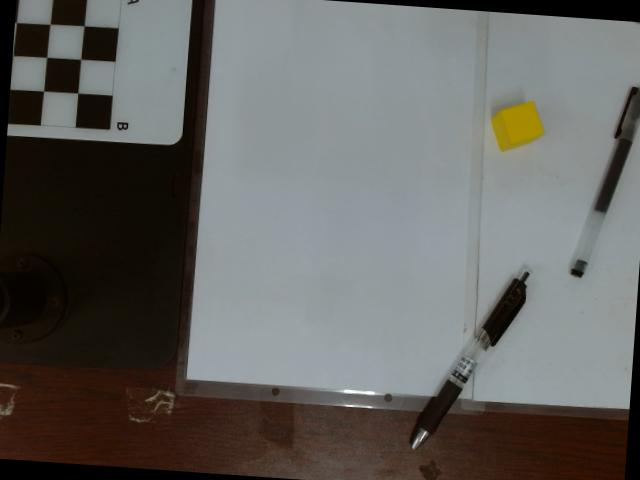PEN: (399, 265, 541, 453)
